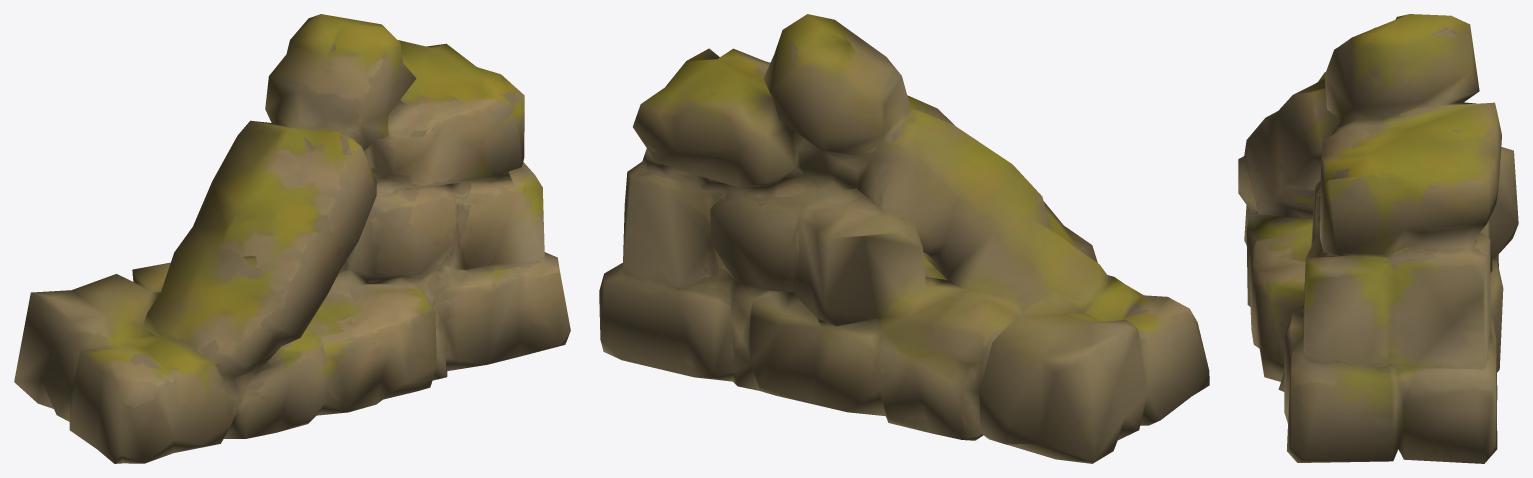
The model's file is SM_FR_WallRubble.fbx.
3 renders of one model, left to right at view 1: azimuth 30°, elevation 25°; view 2: azimuth 150°, elevation 25°; view 3: azimuth 270°, elevation 25°, orthographic. The views are drawn at different scales.
Parts seen in each view (by area): view 1: SM_FR_WallRubble; view 2: SM_FR_WallRubble; view 3: SM_FR_WallRubble.
Boxes of the visible parts, x1,y1,x2,y2 form: SM_FR_WallRubble: (14,14,570,463); SM_FR_WallRubble: (599,14,1209,463); SM_FR_WallRubble: (1238,14,1518,463).
Bounding box in the file's own units: 2.76 × 1.8 × 1.28.
1 material, 1 textured.
